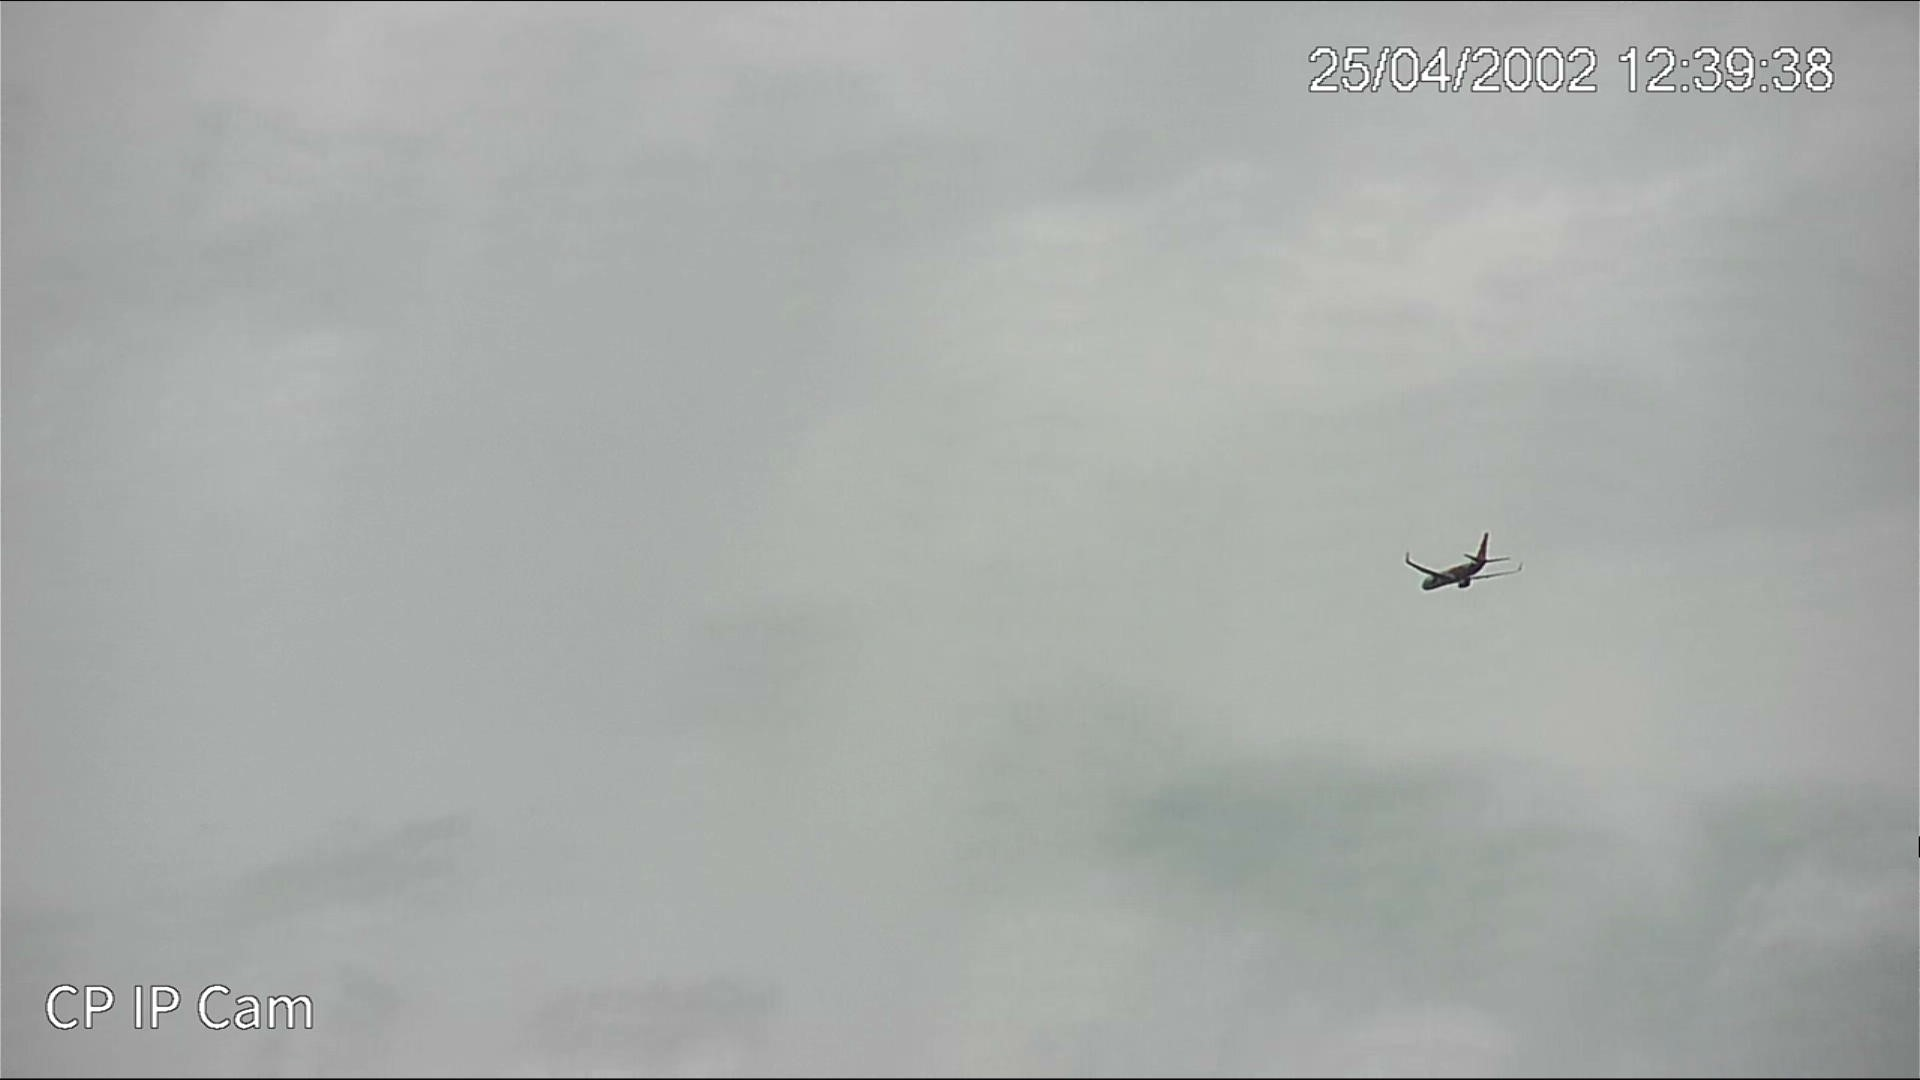SU_30: (1403, 530, 1534, 591)
